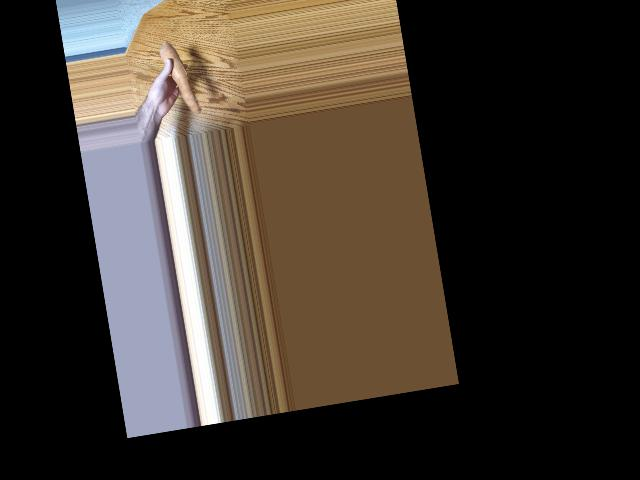sweet_potato: (162, 40, 196, 121)
